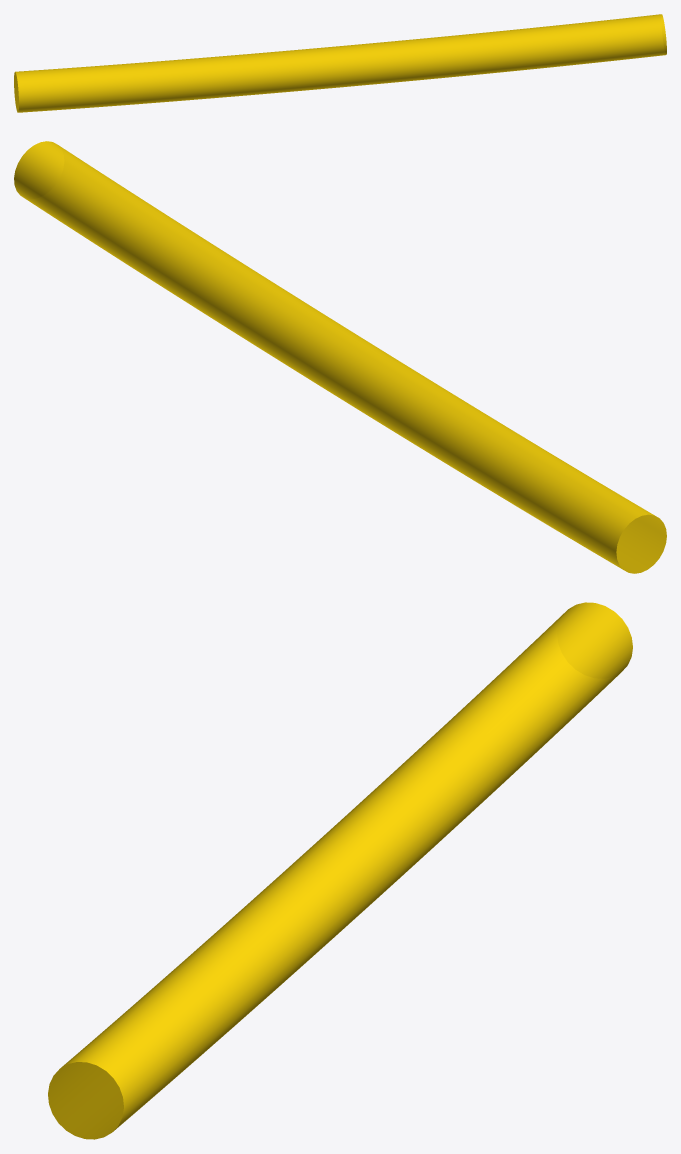
Rendered from Event_420107950_track_9.fbx.
The picture shows the model from 3 angles, top to bottom: view 1: azimuth 30°, elevation 25°; view 2: azimuth 150°, elevation 25°; view 3: azimuth 270°, elevation 25°; orthographic projection. The views are drawn at different scales.
Parts seen in each view (by area): view 1: Model; view 2: Model; view 3: Model.
Part boxes in pixels (x1,y1,x2,y2): Model: (14,14,666,112); Model: (14,141,666,573); Model: (48,602,632,1139).
Size of the model in its own units: 0.5974 by 0.0655 by 0.2833.
